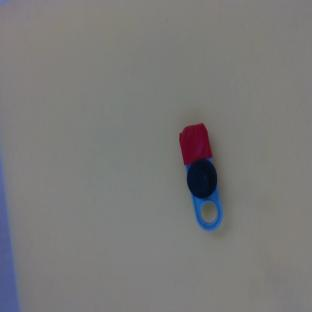part_1_good: (175, 122, 229, 234)
